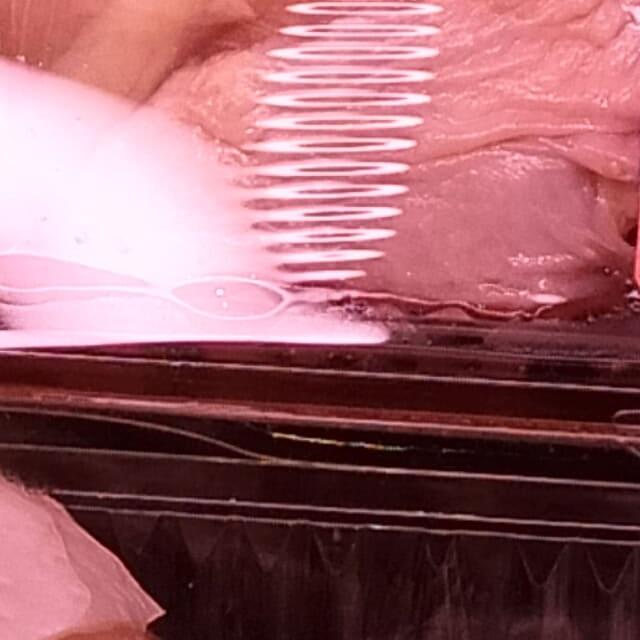chicken: (0, 0, 640, 441), (0, 353, 640, 640)
